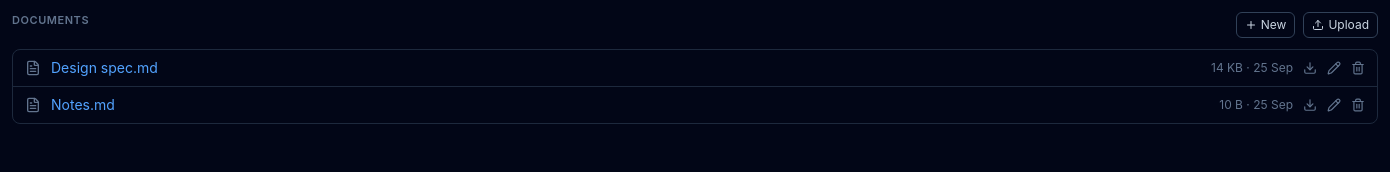
it: DocumentsSection › shows the server's reason when a rename is refused
The image size is (1390, 172).
Click the button named "Rename Design spec.md": (1334,68) left=1327, top=60, right=1341, bottom=74
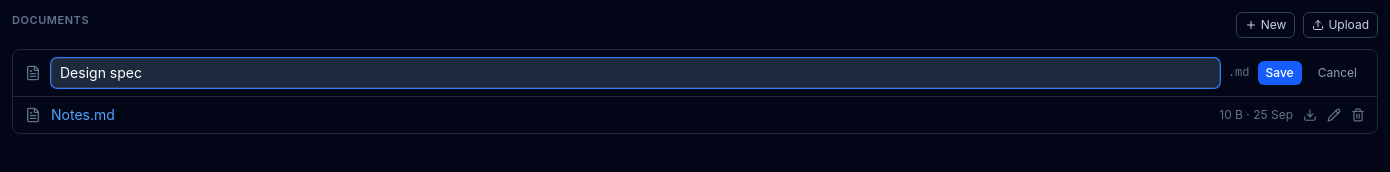
Replace the text in the field named "Document name" with "Plan": (635,72) left=51, top=58, right=1220, bottom=88
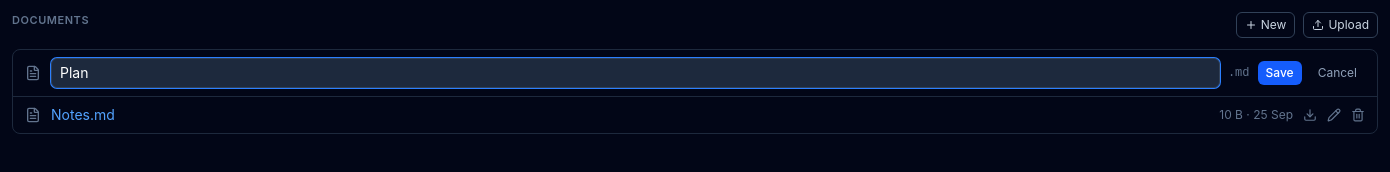
Submit the form from the field named "Document name", box left=51, top=58, right=1220, bottom=88
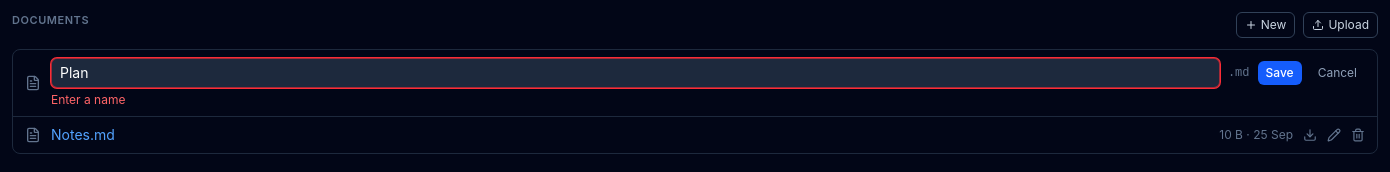
Expected: the message reads "Enter a name", left=51, top=92, right=126, bottom=106
